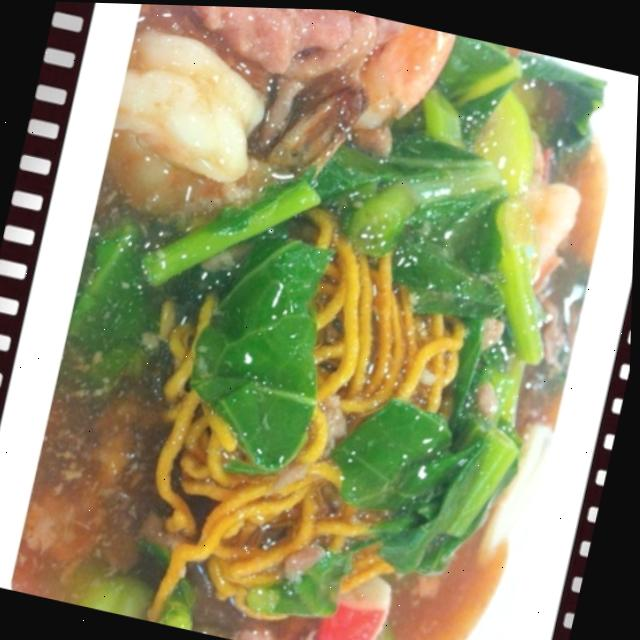面条主食: (17, 1, 634, 640)
